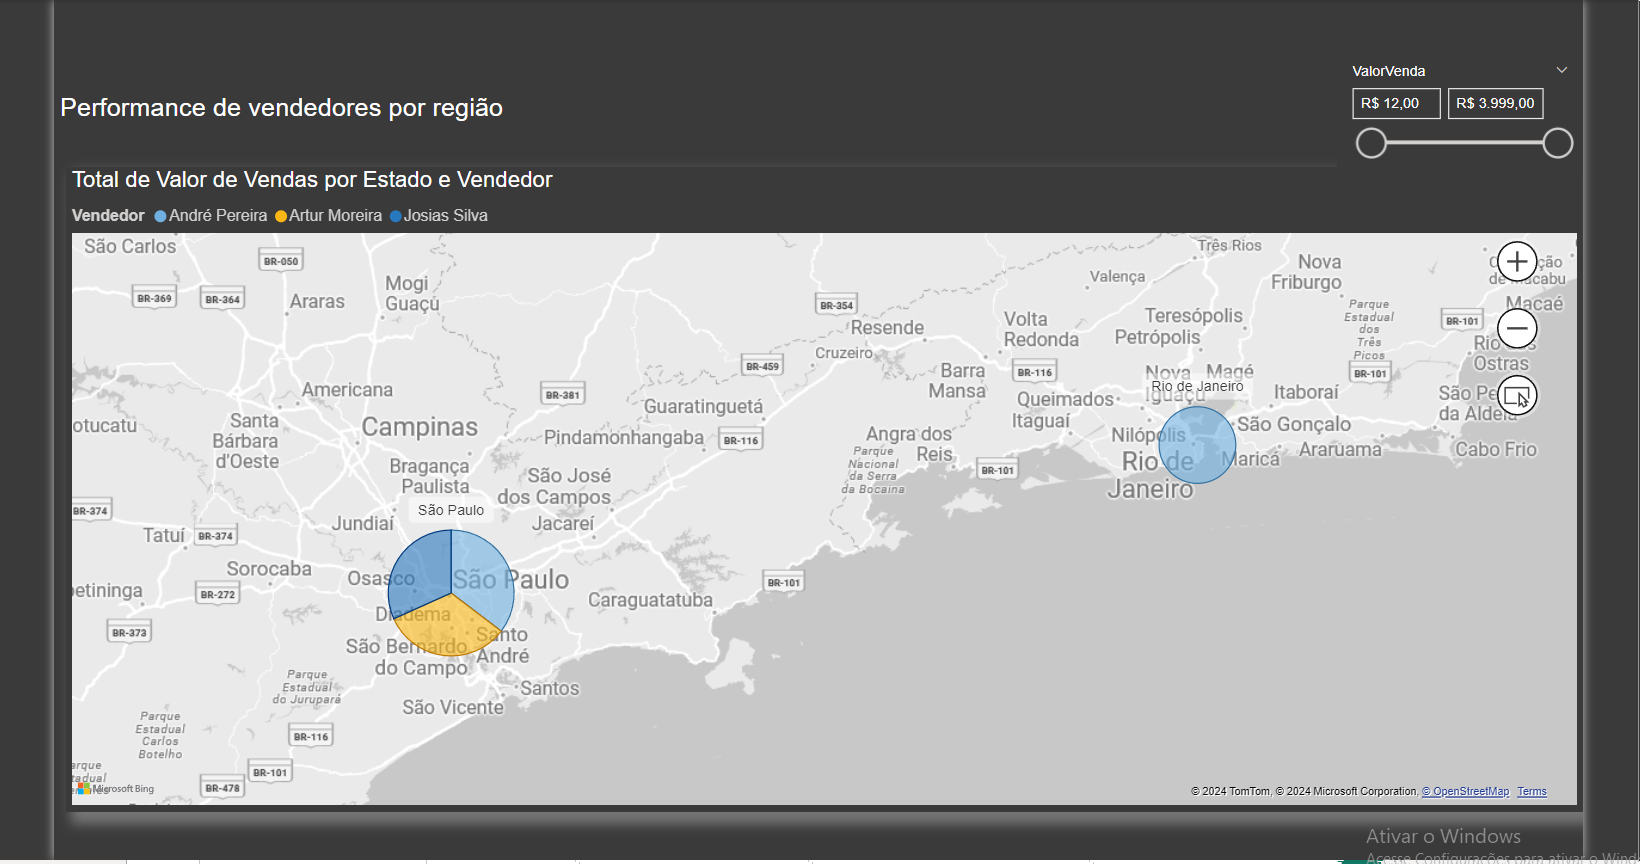

The page's visual inventory and layout, read from the dashboard file:
{"tool":"powerbi","page":{"name":"Performance de vendedores por região","canvas":[1280,720],"ordinal":5},"visuals":[{"type":"map","title":"Total de Valor de Vendas  por Estado e Vendedor","fields":{"Category":["Vendas.Estado"],"Series":["Vendas.Vendedor"],"Size":["Sum(Vendas.ValorVenda)"]},"box":[10.3,140.1,1269.7,539.8],"z":0},{"type":"slicer","fields":{"Values":["Vendas.ValorVenda"]},"box":[1074.4,47.6,205.6,92.5],"z":1000},{"type":"textbox","box":[0,73.1,390.4,39.4],"z":2001}]}

Visuals, with their boxes on the page's 1280x720 design canvas (x1, y1, x2, y2). These are canvas units, not pixel positions in the 1640x864 screenshot, which may show the page scaled, cropped or inside an application window:
"Total de Valor de Vendas  por Estado e Vendedor" map: 10, 140, 1280, 680
slicer - Vendas.ValorVenda: 1074, 48, 1280, 140
textbox: 0, 73, 390, 112
